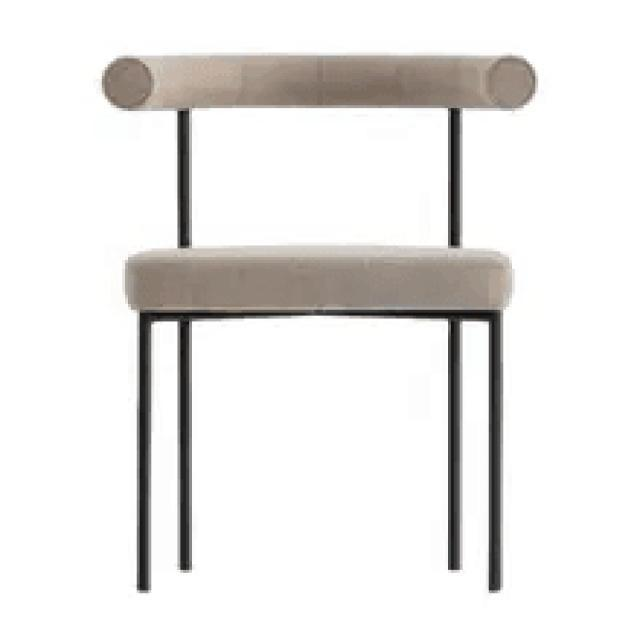chair: (102, 52, 537, 594)
